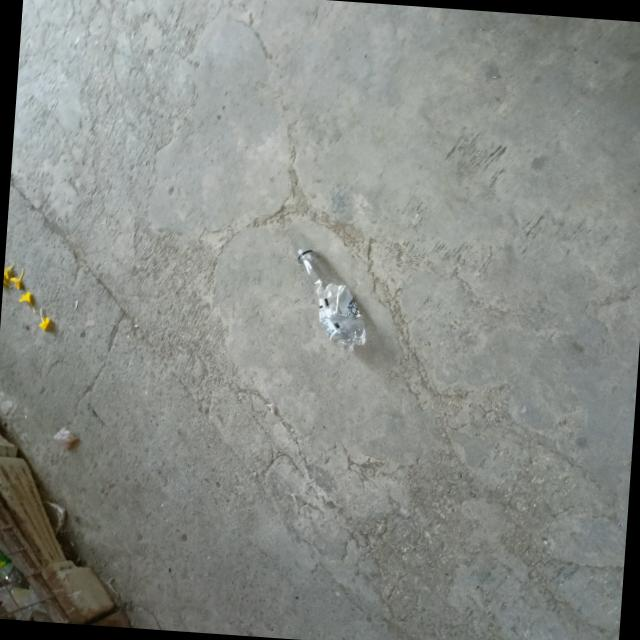Bottle: (296, 249, 365, 348)
